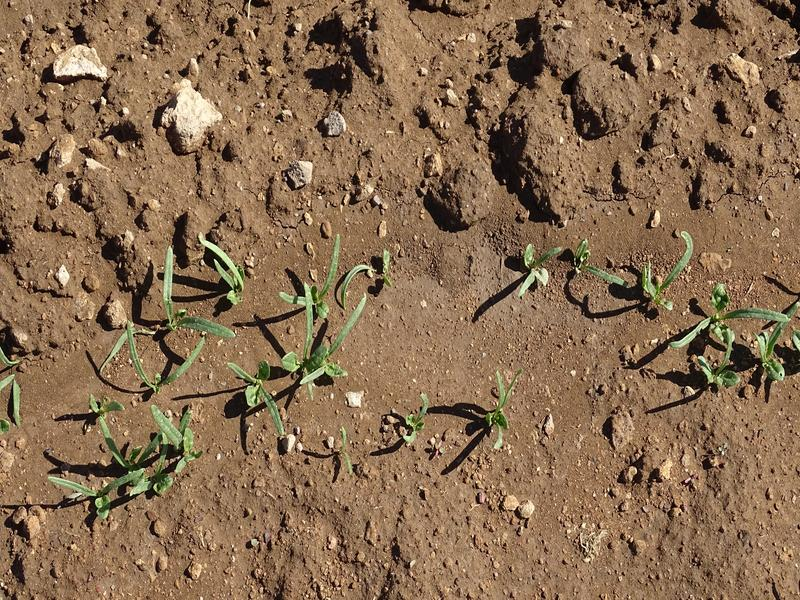Espinaca: (634, 239, 793, 378), (248, 261, 370, 434), (105, 245, 243, 385), (51, 401, 205, 504), (514, 237, 620, 300), (490, 373, 523, 442), (2, 349, 26, 429), (402, 400, 431, 442)
